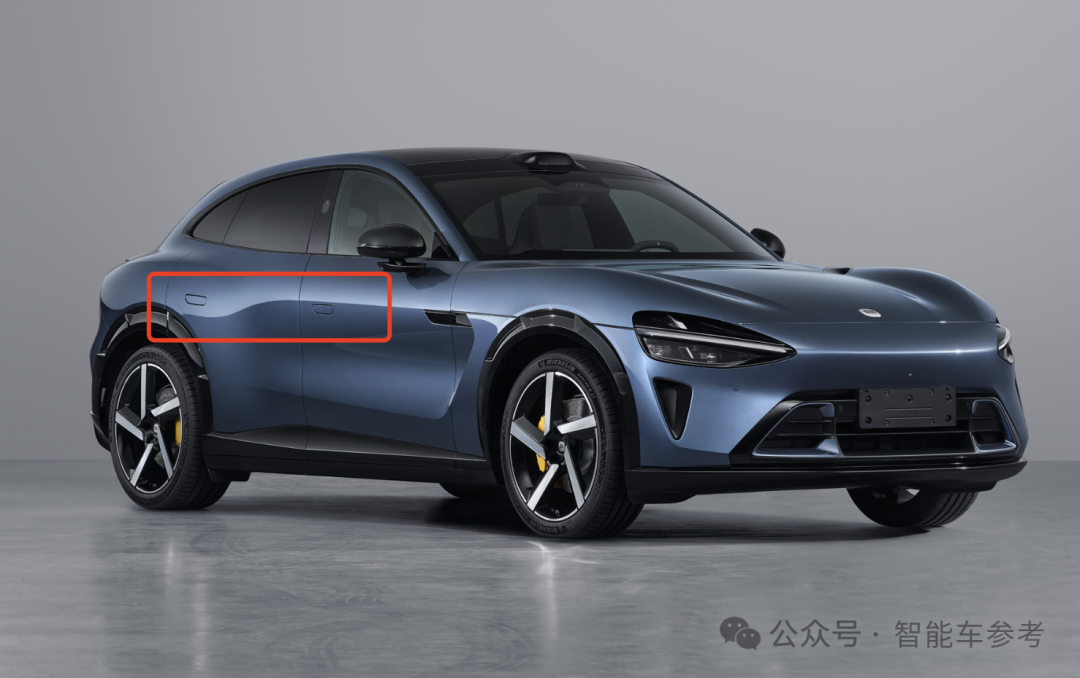other: (103, 143, 1018, 563)
